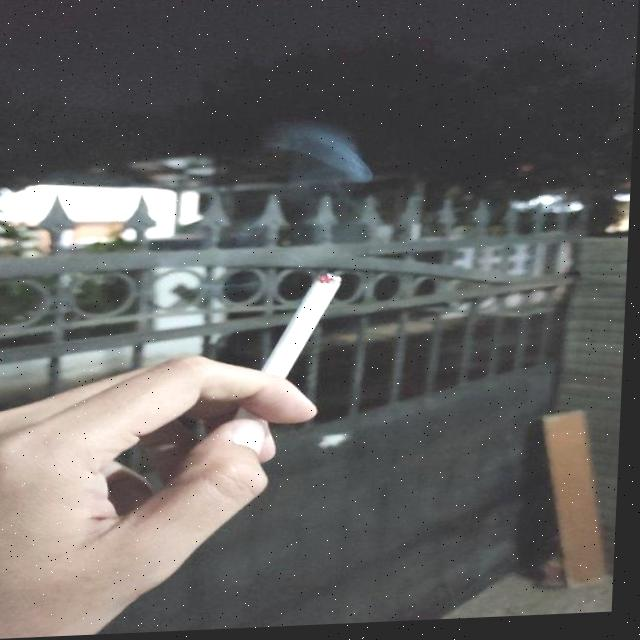cigarette: (245, 278, 345, 427)
